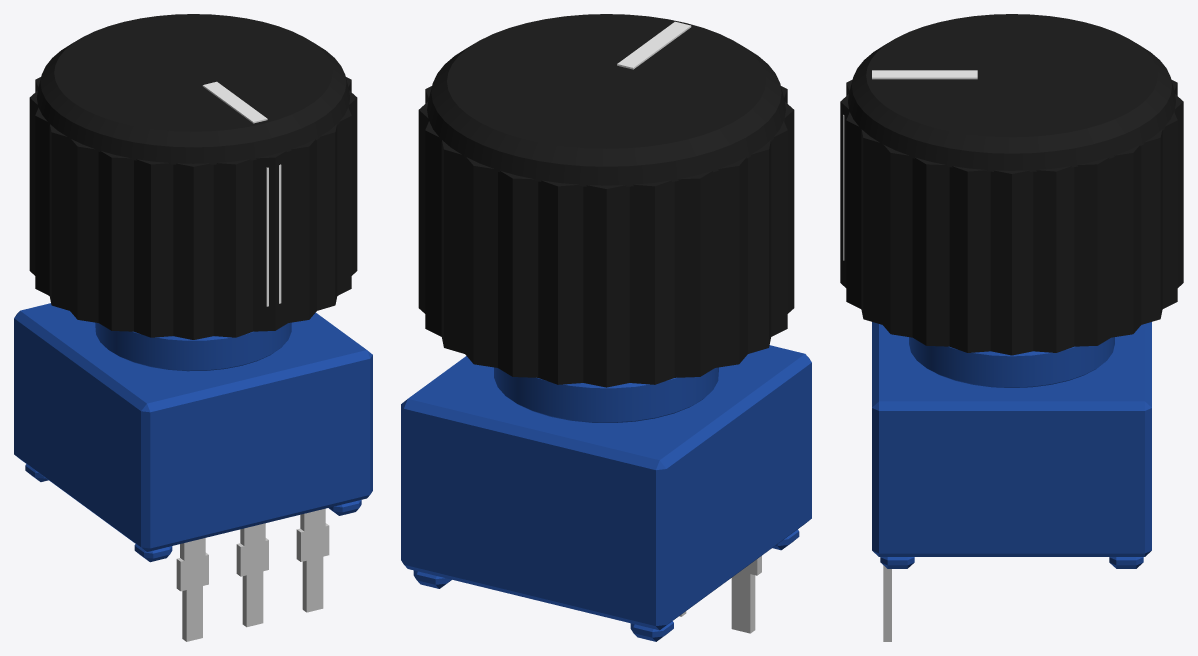
The model's file is potentiometer.glb.
The picture shows the model from 3 angles, left to right: view 1: azimuth 30°, elevation 25°; view 2: azimuth 150°, elevation 25°; view 3: azimuth 270°, elevation 25°; orthographic projection. The views are drawn at different scales.
Visible parts, largest first — view 1: MOVE_Knob, Pot_Body, Pot_Legs, Pot_Bushing; view 2: MOVE_Knob, Pot_Body, Pot_Bushing, Pot_Legs; view 3: MOVE_Knob, Pot_Body, Pot_Bushing, Pot_Legs.
Part boxes in pixels (x1,y1,x2,y2): MOVE_Knob: (29, 14, 357, 339); Pot_Body: (14, 303, 372, 562); Pot_Legs: (176, 508, 329, 641); Pot_Bushing: (95, 322, 291, 371); MOVE_Knob: (418, 14, 794, 387); Pot_Body: (401, 345, 811, 641); Pot_Bushing: (494, 367, 718, 422); Pot_Legs: (679, 556, 761, 633); MOVE_Knob: (840, 14, 1183, 355); Pot_Body: (872, 322, 1151, 568); Pot_Bushing: (909, 337, 1114, 387); Pot_Legs: (883, 565, 891, 641).
Bounding box in the file's own units: 0.012 × 0.0206 × 0.012.
